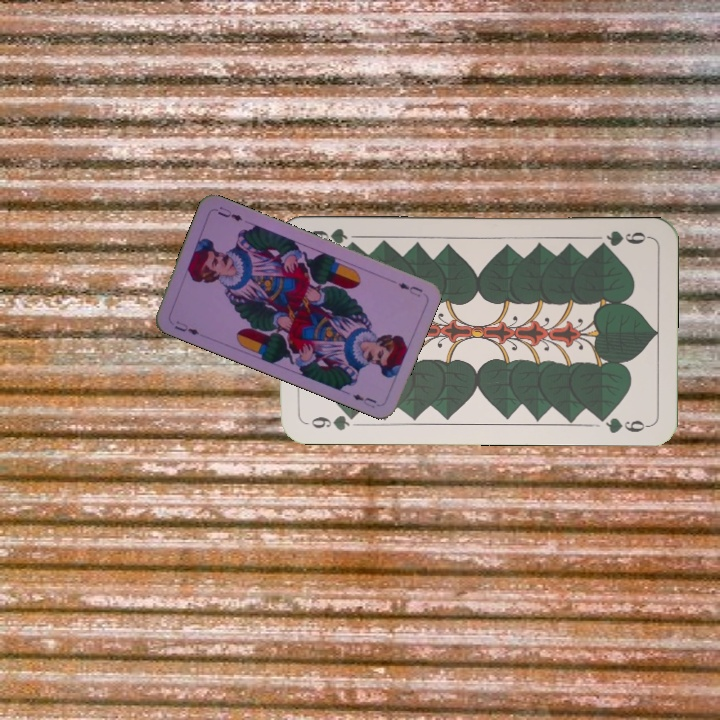EU: (394, 278, 425, 299), (170, 320, 202, 338)
G9: (593, 226, 652, 251), (302, 409, 361, 433)
